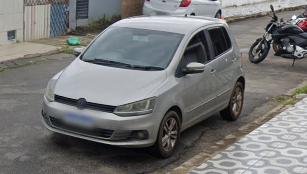car: (41, 14, 247, 149)
